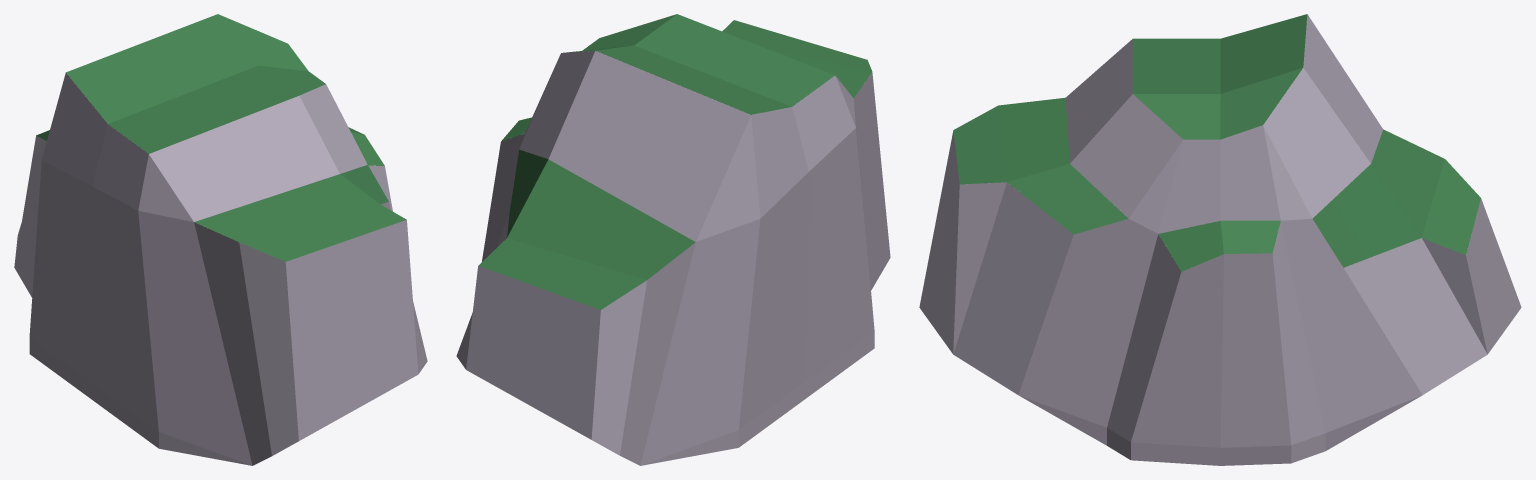
File: Rock_Moss_4-optimized.glb
3 renders of one model, left to right at view 1: azimuth 30°, elevation 25°; view 2: azimuth 150°, elevation 25°; view 3: azimuth 270°, elevation 25°, orthographic. The views are drawn at different scales.
Parts seen in each view (by area): view 1: Rock_Moss_4; view 2: Rock_Moss_4; view 3: Rock_Moss_4.
Boxes of the visible parts, bbox=[...] form: Rock_Moss_4: bbox=[14, 14, 427, 465]; Rock_Moss_4: bbox=[456, 14, 890, 465]; Rock_Moss_4: bbox=[919, 14, 1521, 465].
Size of the model in its own units: 0.7436 by 0.7836 by 1.25.
